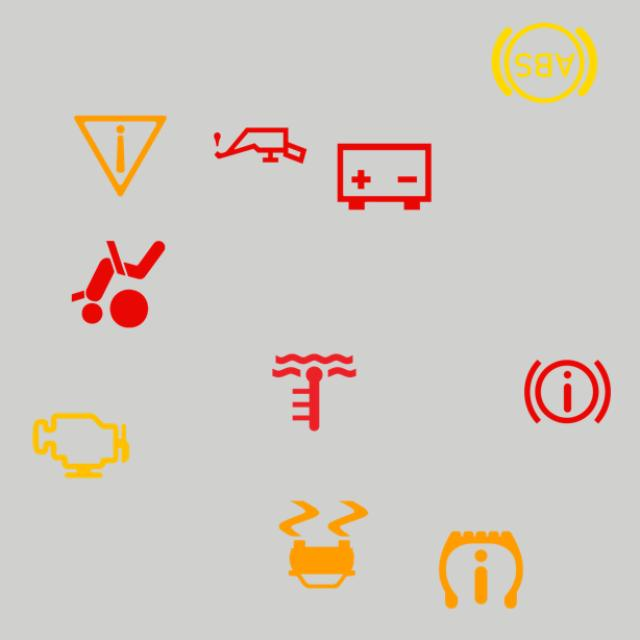Anti Lock Braking System: (487, 5, 602, 121)
Braking System Issue: (510, 334, 626, 449)
Charging System Issue: (326, 118, 442, 234)
Check Engine: (23, 388, 139, 503)
Electronic Stability Problem -ESP-: (266, 487, 382, 602)
Engine Overheating Warning Light: (256, 334, 372, 450)
Low Engine Oil Warning Light: (202, 88, 318, 204)
Low Tire Pressure Warning Light: (423, 512, 539, 628)
Master warning light: (63, 98, 178, 214)
SRS-Airbag: (60, 226, 176, 342)
